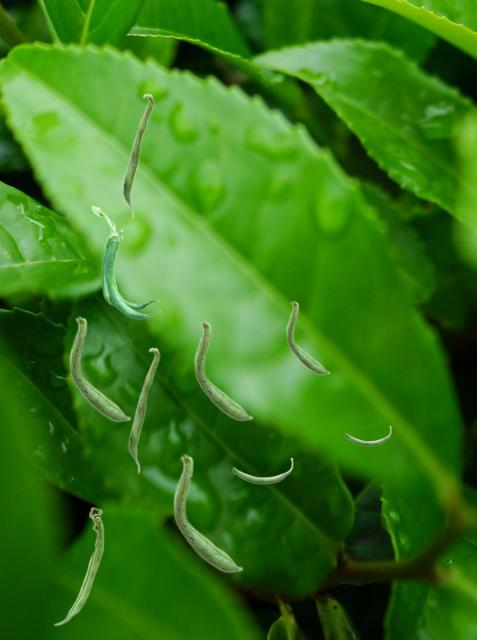french_bean: (173, 453, 242, 572), (91, 205, 160, 318), (69, 315, 130, 421), (53, 506, 103, 625), (194, 320, 252, 420), (128, 347, 159, 473), (122, 93, 153, 219), (286, 300, 329, 374), (232, 458, 292, 483), (345, 426, 390, 445)
